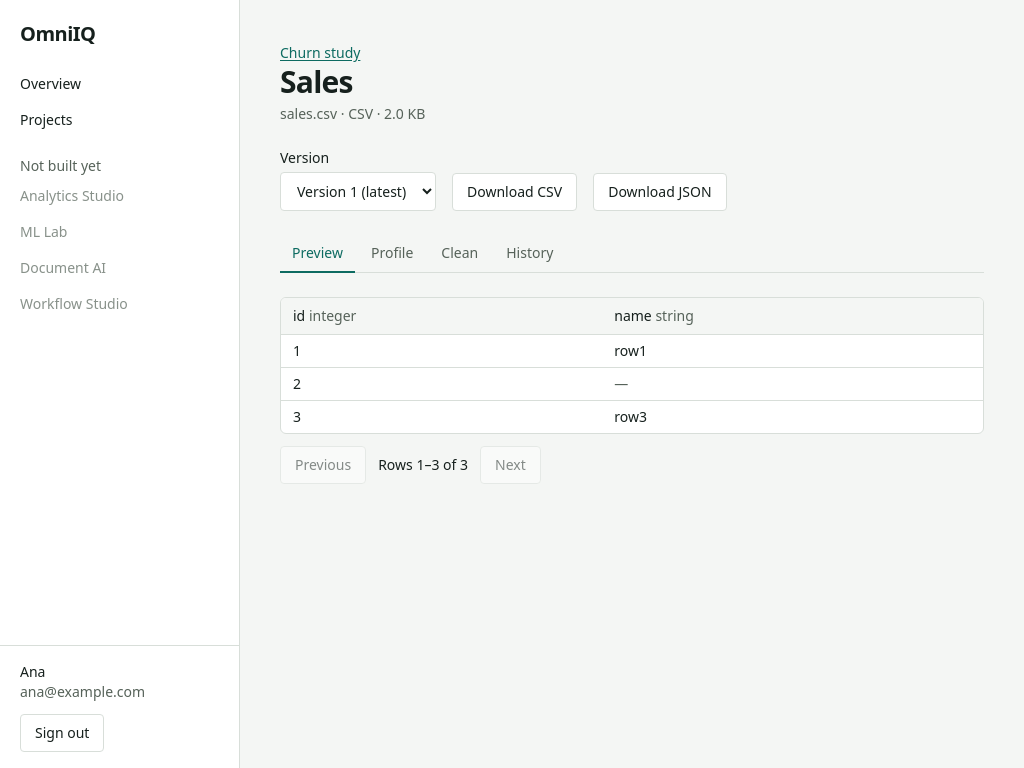
Export, roles and delete › view-only users can read but see no way to change or delete
Click the tab "Clean" at [460, 254], box [429,235,490,273]
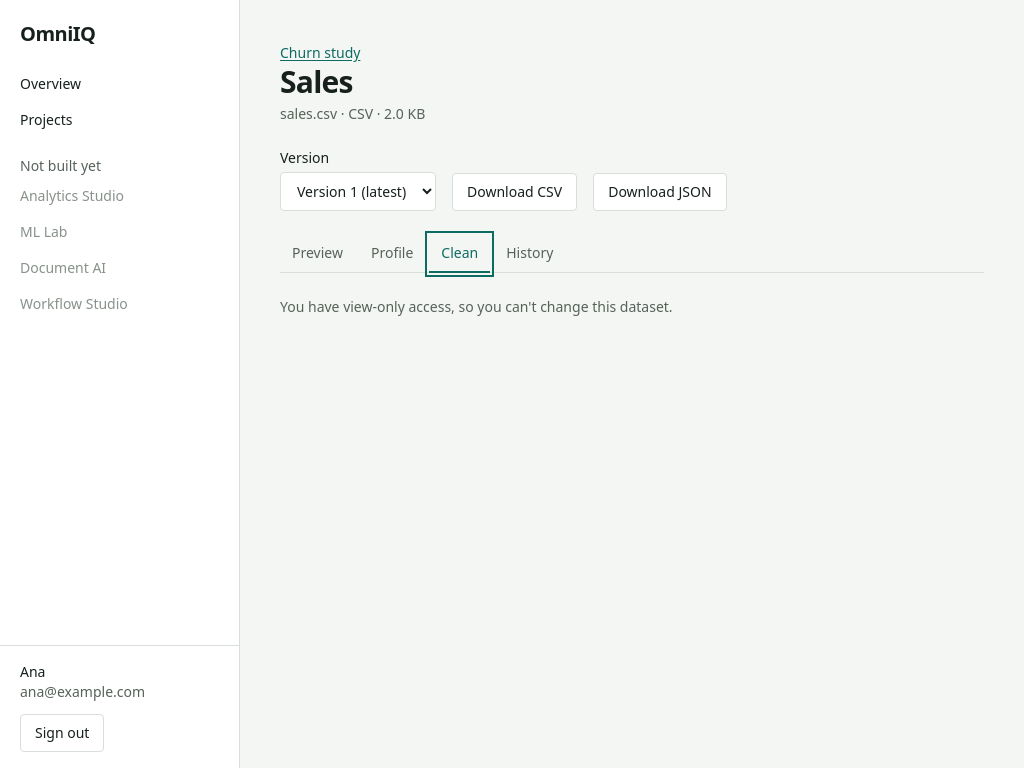
Check: the button "Download CSV" is shown, box [452,173,577,211]
Check: the text "You have view-only access, so you can't change this dataset." is shown, box [280,297,673,316]
